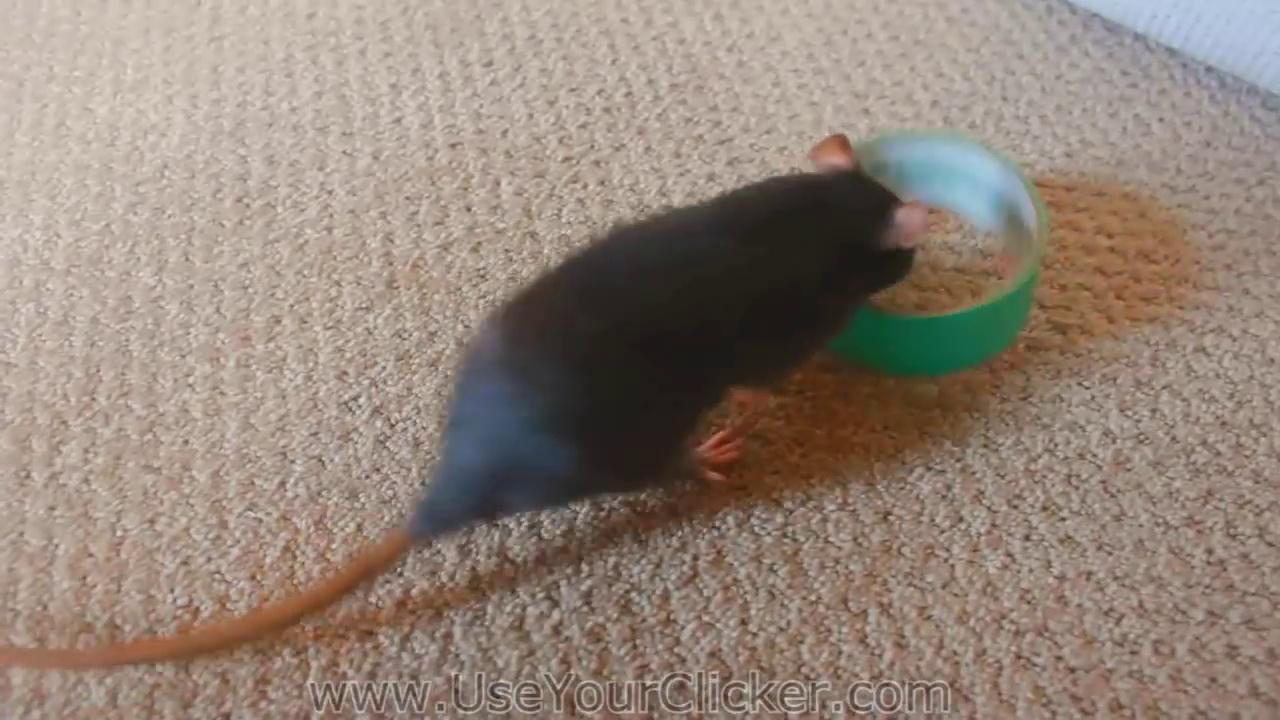rat: (0, 135, 930, 669)
